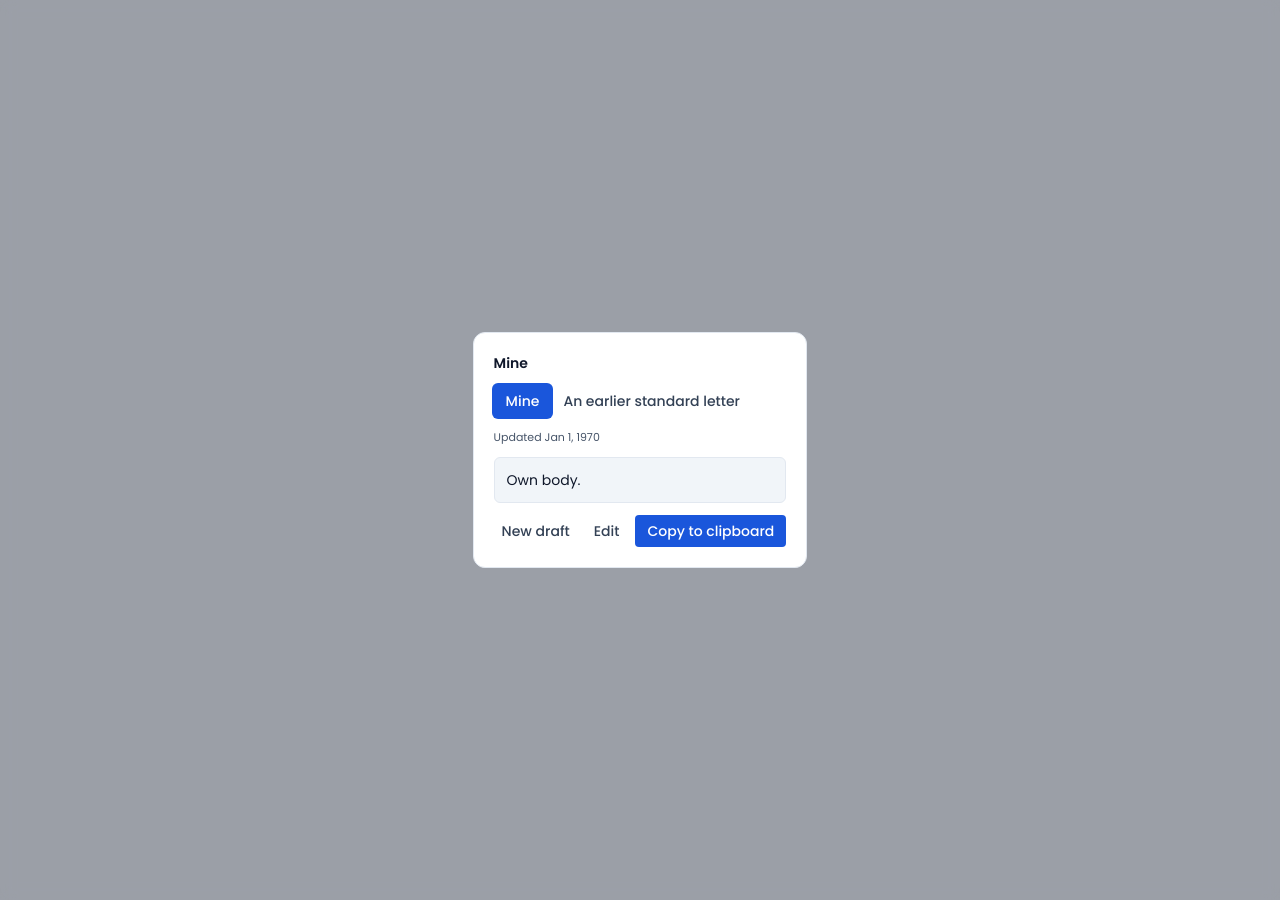
Test: LetterRevealDialog: unreachable duplicates and delete (#978) › offers an unreachable duplicate as a chip, without opening on it
Expected: the text "An older standard letter." is not shown
Click the button "An earlier standard letter" at (652, 401), box [555,389,748,413]
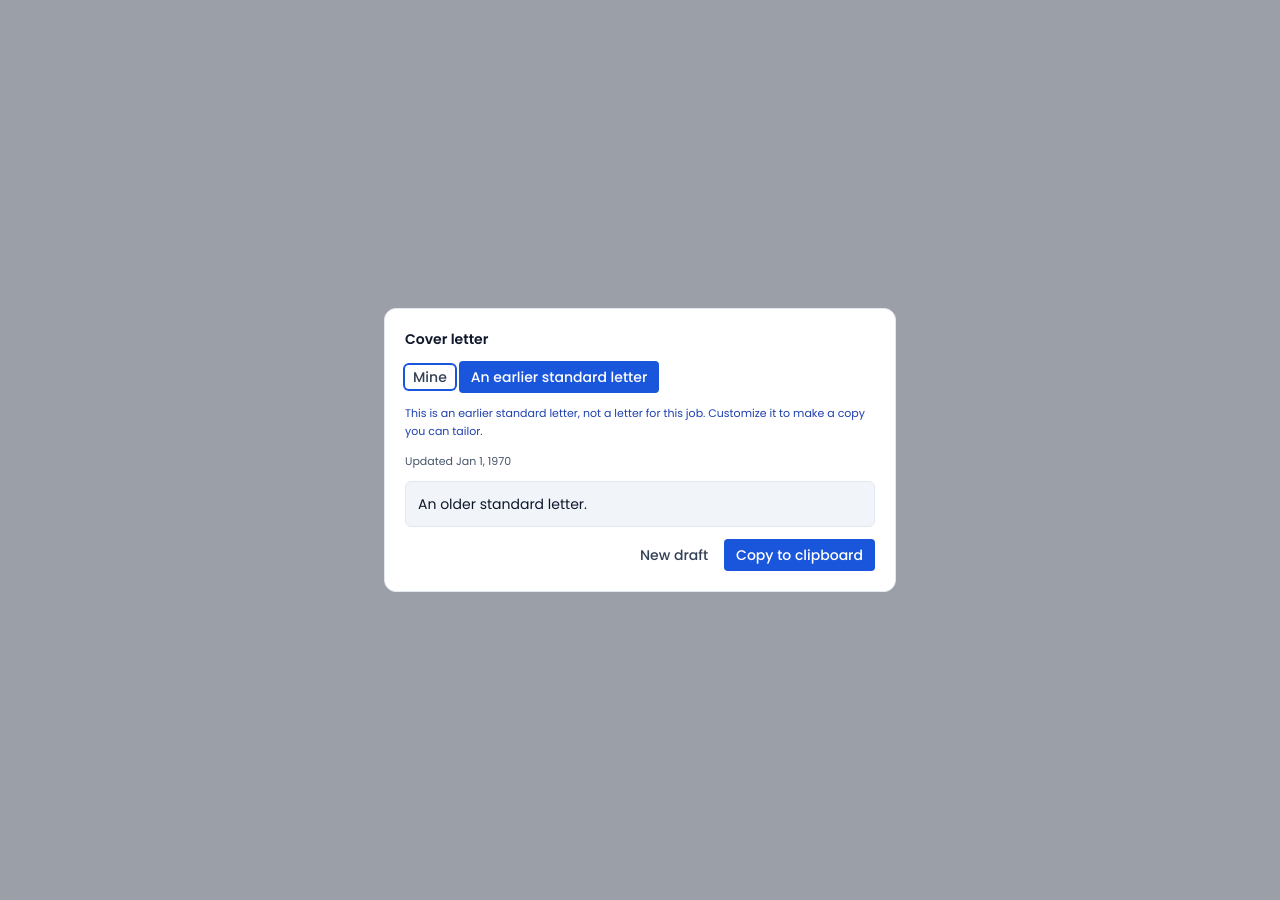
Expected: the button "An earlier standard letter" is shown, [459,361,659,393]
Result: the text "An older standard letter." is shown at [405,481,875,527]
